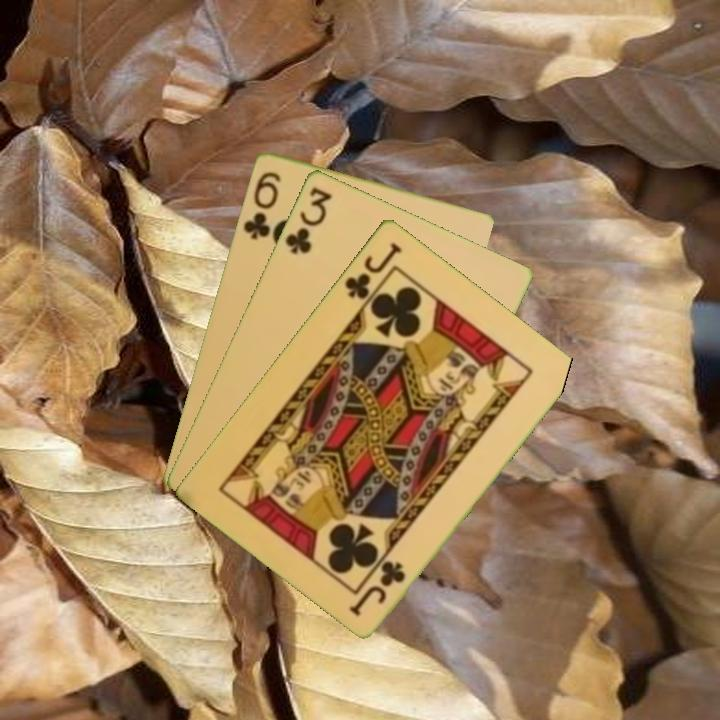3c: (281, 183, 335, 257)
6c: (239, 167, 284, 242)
Jc: (341, 237, 404, 302), (347, 556, 409, 619)
